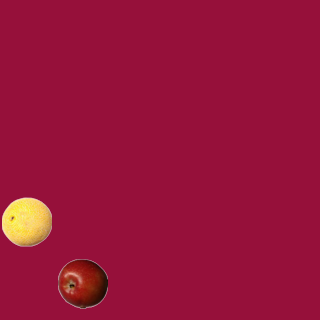Apple Braeburn: (57, 258, 107, 308)
Cantaloupe 1: (1, 196, 51, 246)
